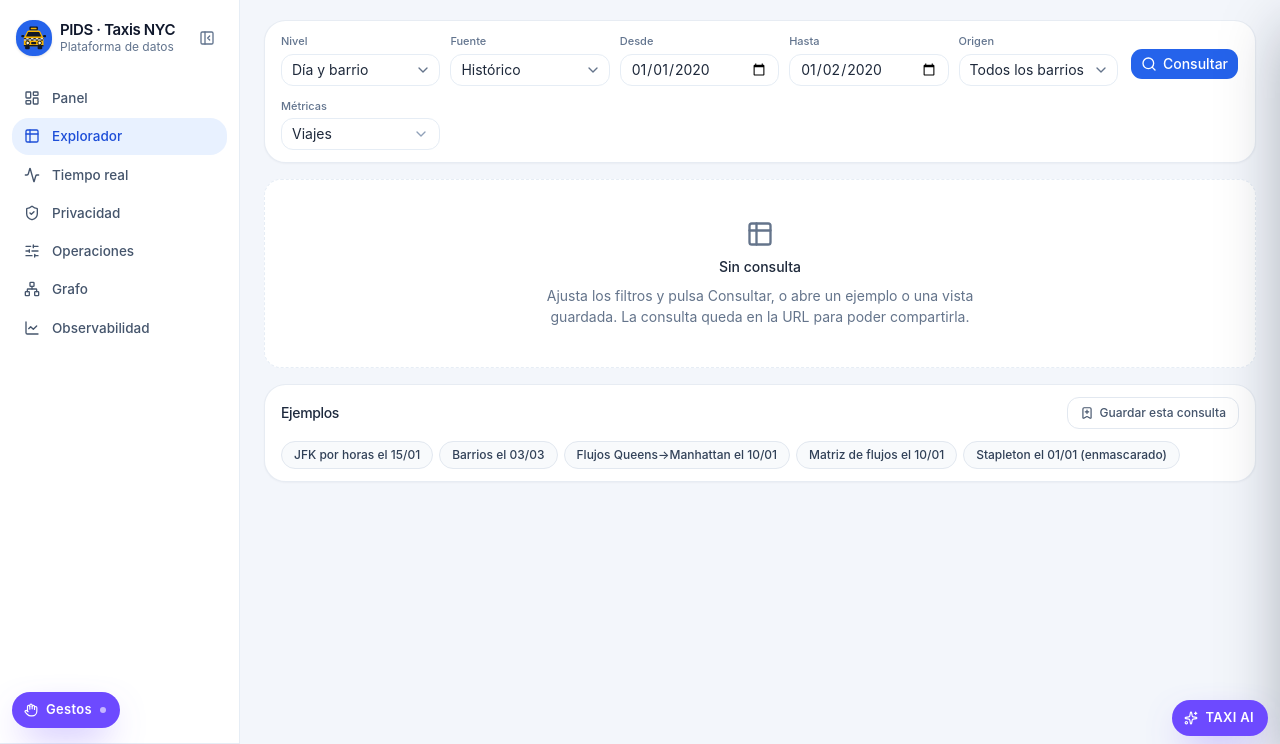
it: PaginaExplorador › al enviar el formulario la consulta pasa a la URL y se pinta el gráfico de barras por barrio
Type "2020-03-03" into the date field labelled "Desde" at [700, 70], box [620,54,779,86]
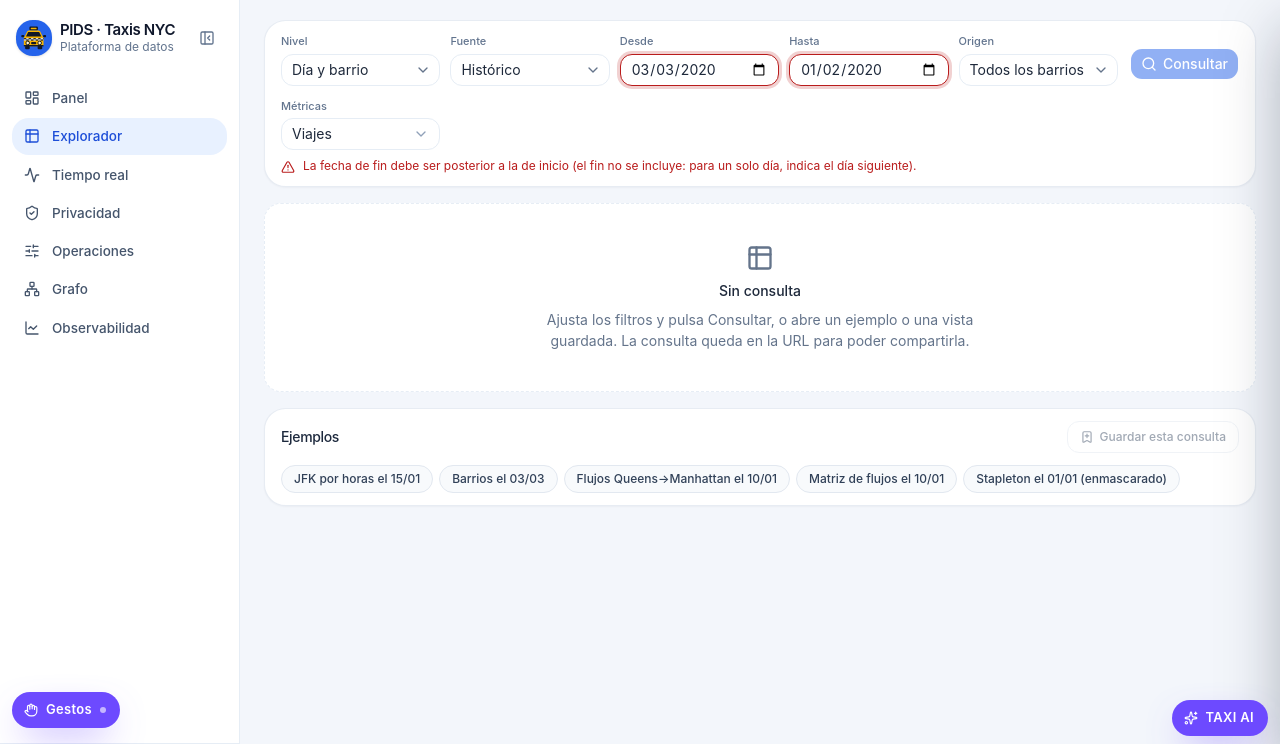
Type "2020-03-04" into the date field named "Hasta (no incluido)" at [869, 70], box [789,54,949,86]
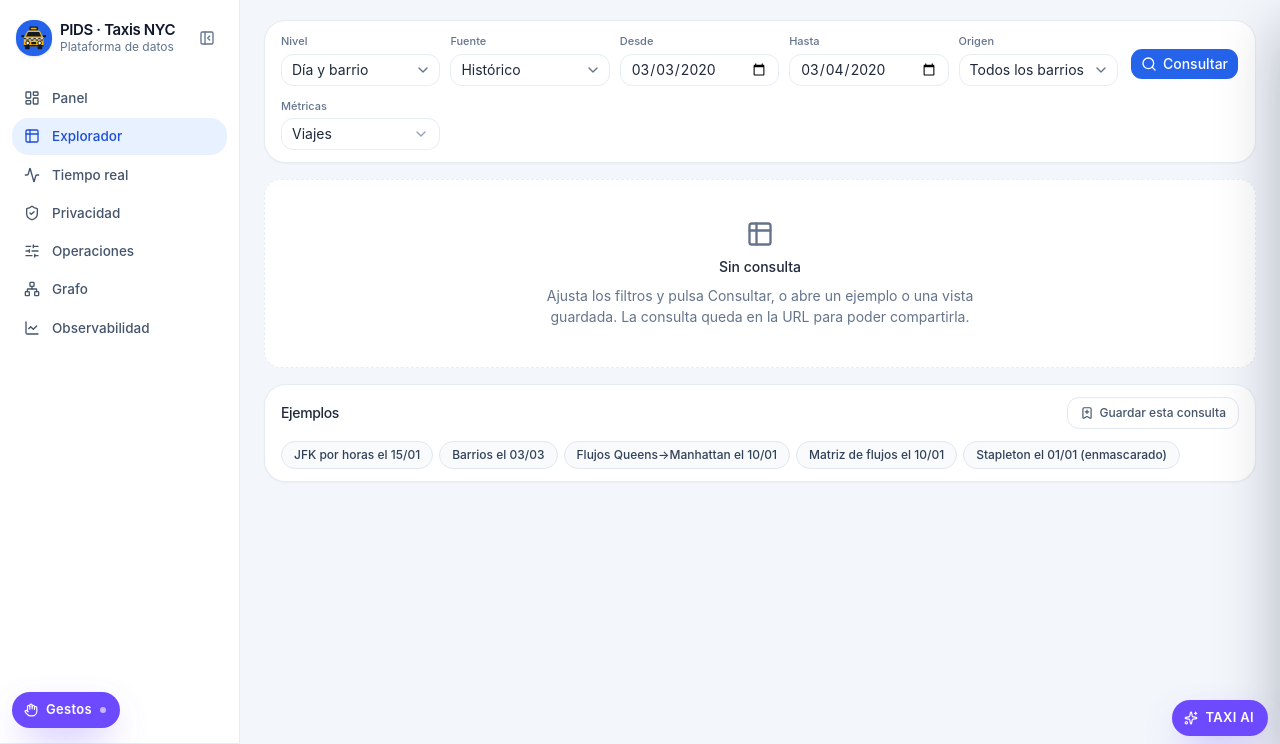
Click the button with aria-label "Métricas" at [361, 134], box [281,118,440,150]
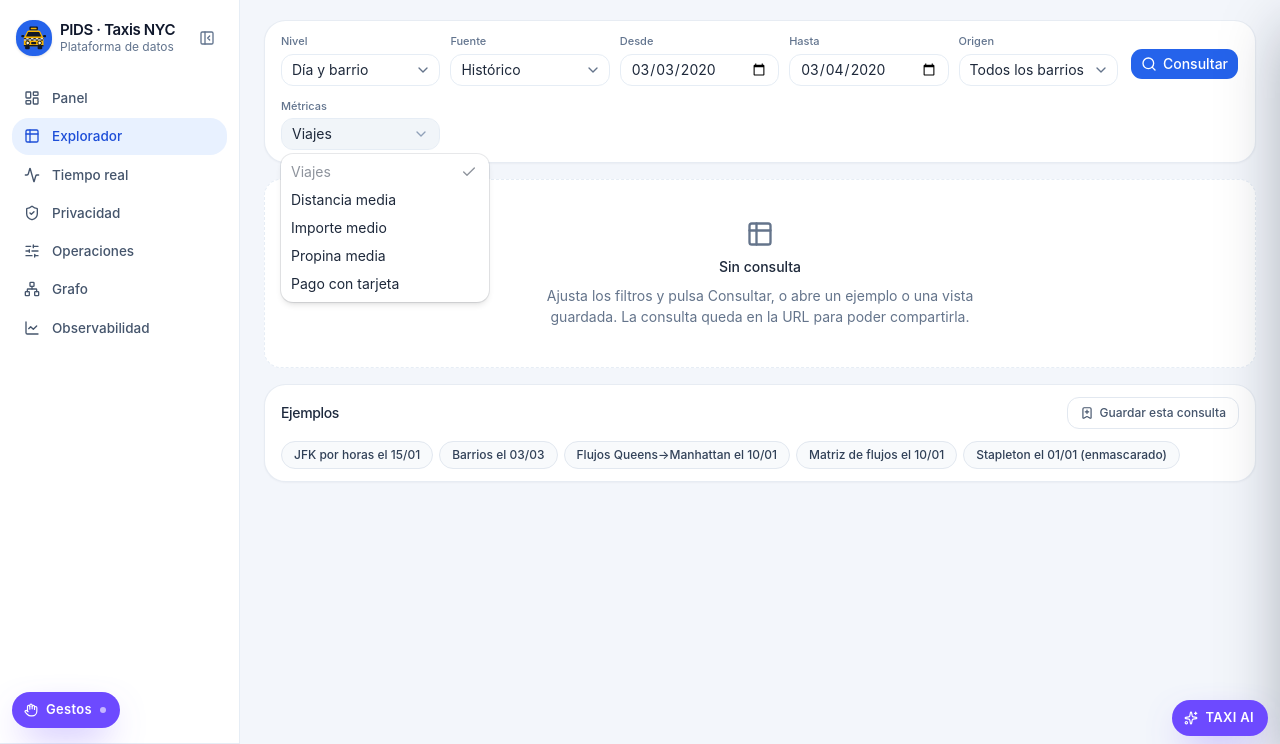
Click the menu item "Importe medio" at [339, 228], box [291,219,387,236]
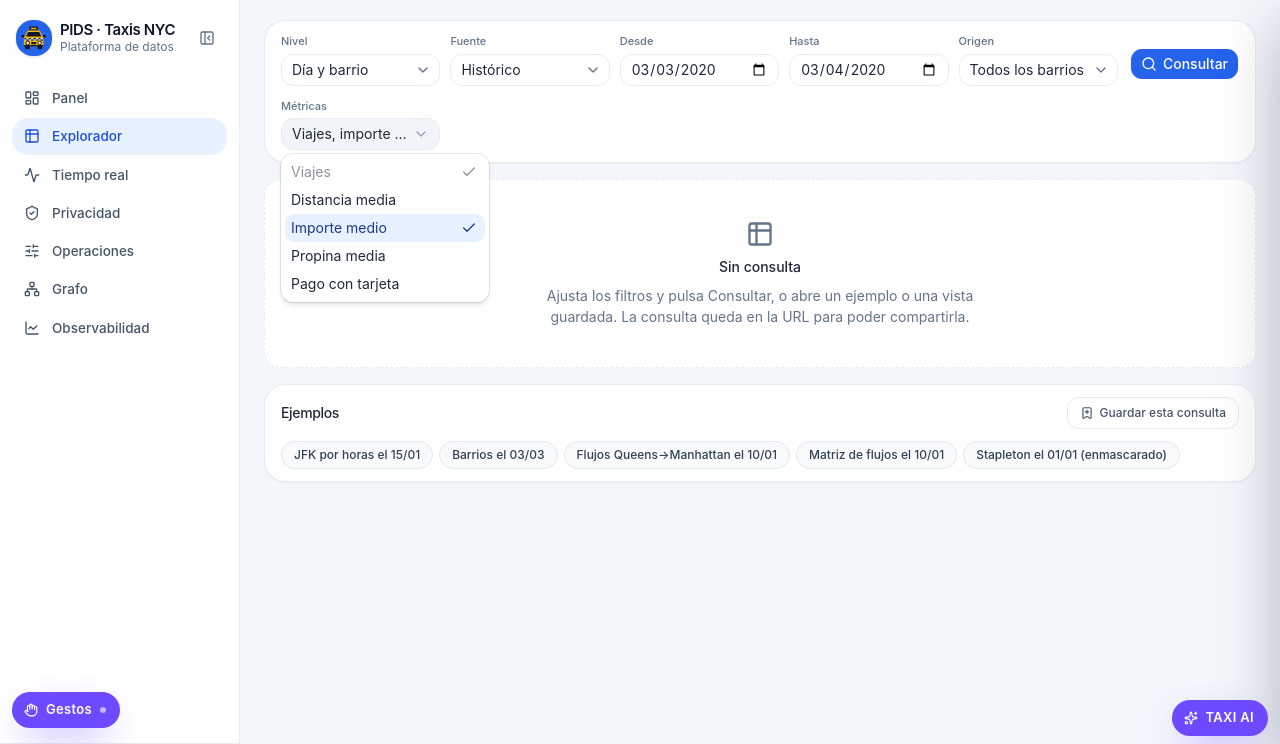
Press Escape
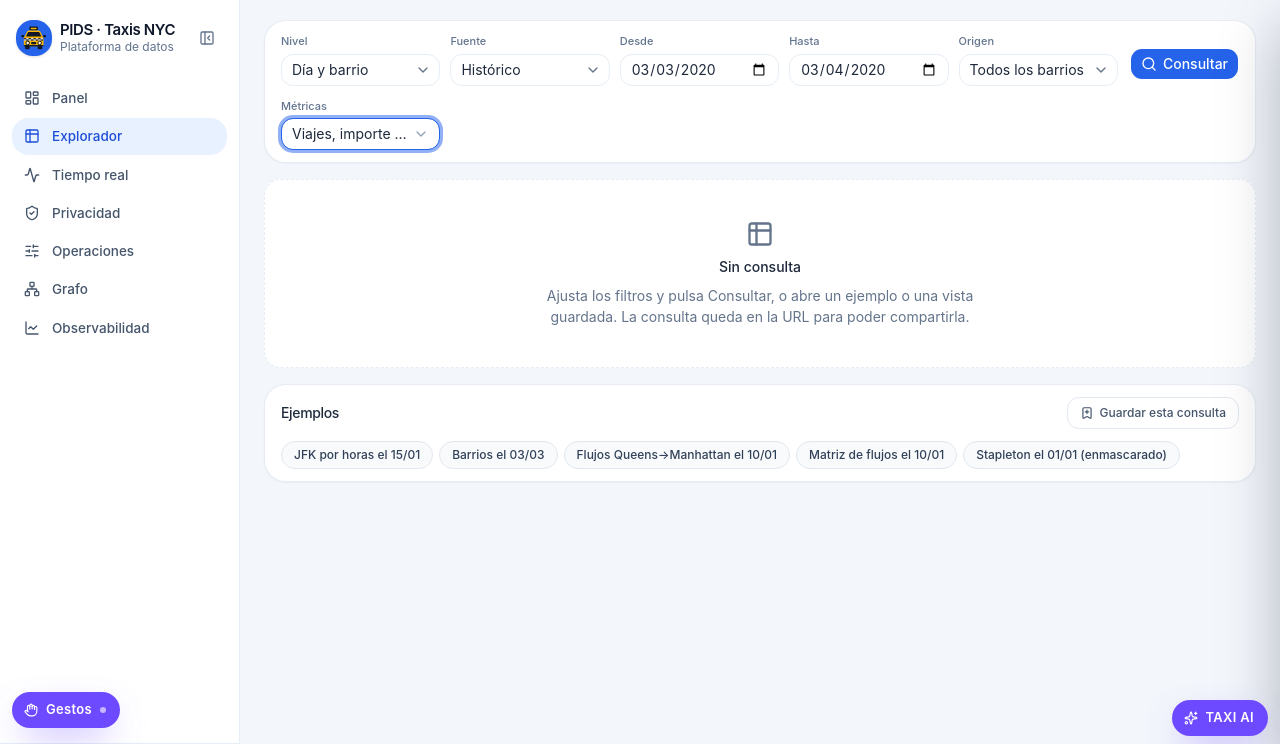
Click the button "Consultar" at [1184, 64], box [1130,48,1239,80]
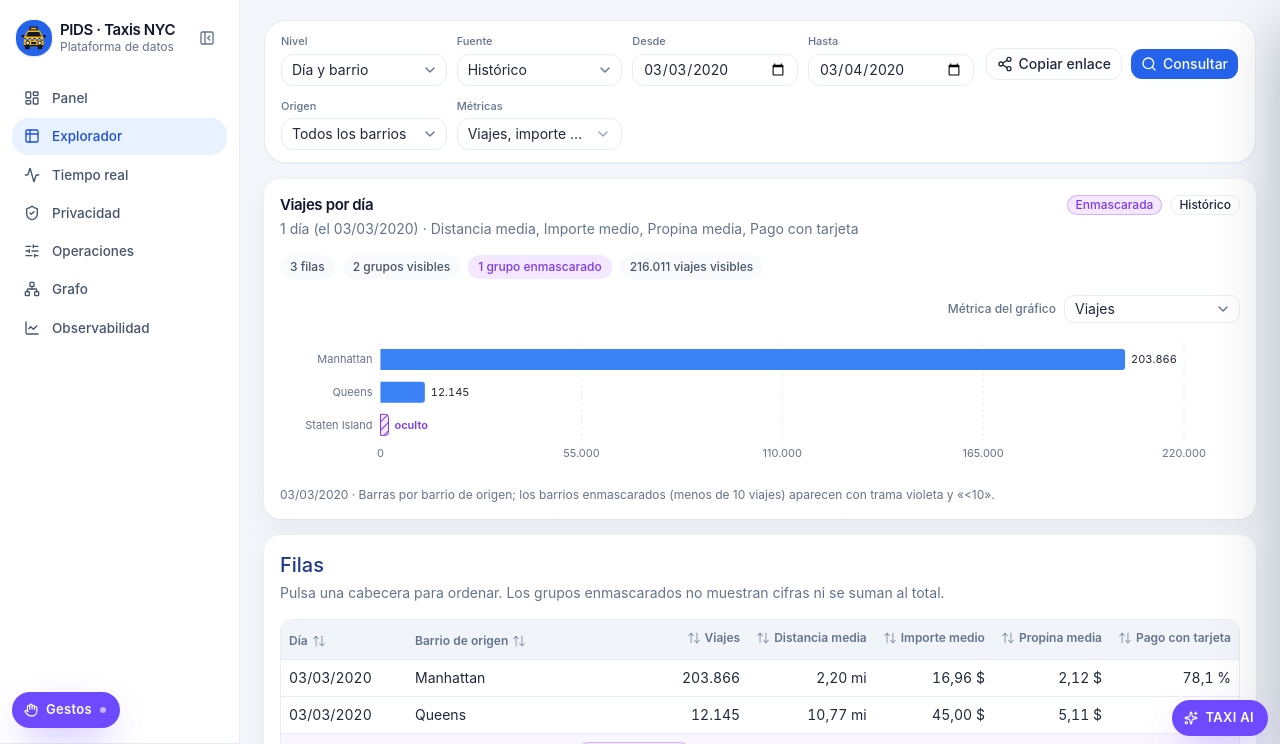
Result: the picture named "Viajes por barrio de origen" is shown at [280,335,1240,475]
Result: the text "203.866" is shown at [570,660,748,697]
Result: the text "16,96 $" is shown at [875,660,993,697]
